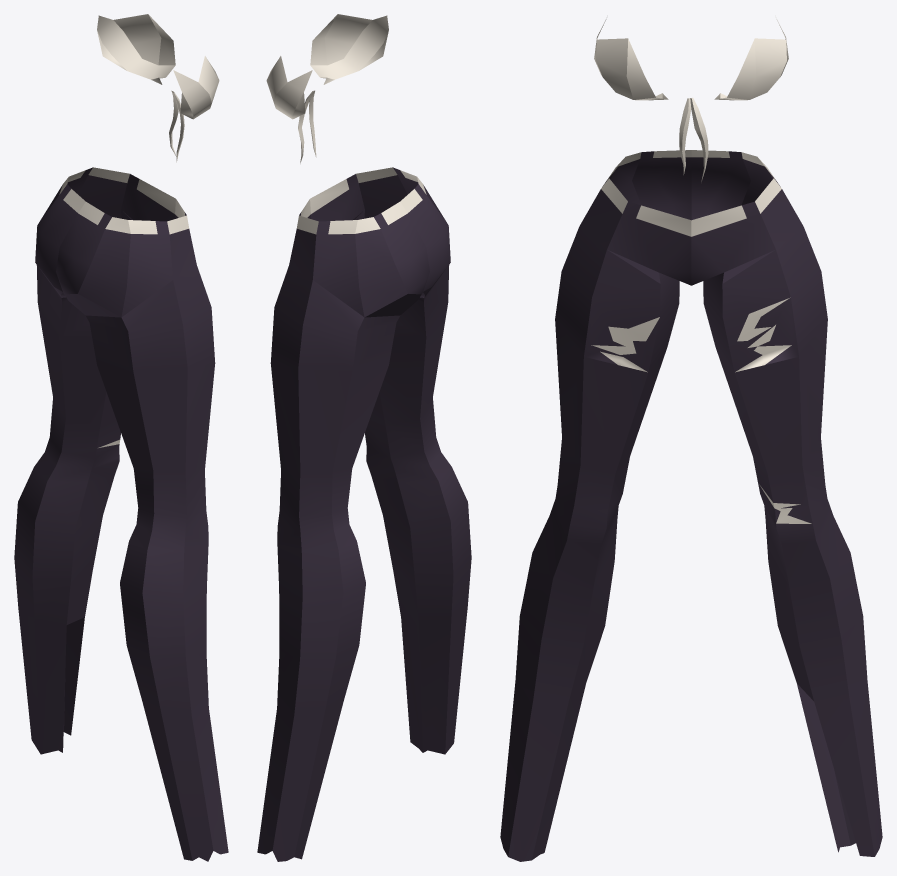
File: Lu_Jean_002.fbx
3 views of the same model, side by side, from view 1: azimuth 30°, elevation 25°; view 2: azimuth 150°, elevation 25°; view 3: azimuth 270°, elevation 25° (orthographic). The views are drawn at different scales.
Parts seen in each view (by area): view 1: Lu_Jean_002; view 2: Lu_Jean_002; view 3: Lu_Jean_002.
Boxes of the visible parts, x1=… form: Lu_Jean_002: x1=14, y1=14, x2=228, y2=861; Lu_Jean_002: x1=257, y1=14, x2=471, y2=861; Lu_Jean_002: x1=500, y1=19, x2=882, y2=861.
Size of the model in its own units: 2301 by 11708 by 4802.
